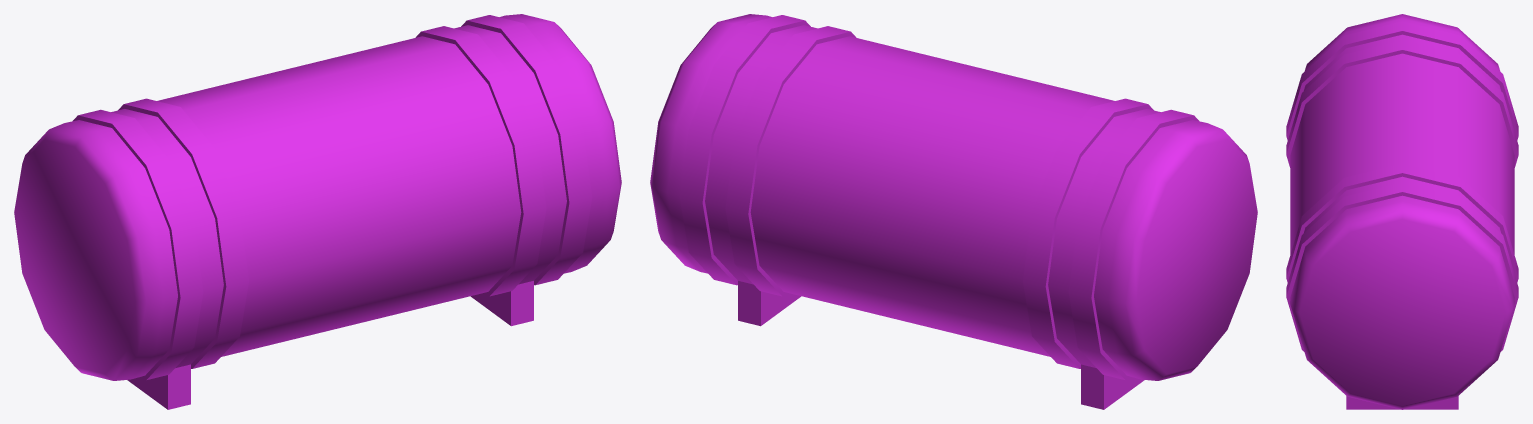
Rendered from Coper_Boiler_Big.fbx.
3 views of the same model, side by side, from view 1: azimuth 30°, elevation 25°; view 2: azimuth 150°, elevation 25°; view 3: azimuth 270°, elevation 25° (orthographic). The views are drawn at different scales.
Parts seen in each view (by area): view 1: Cylinder.006; view 2: Cylinder.006; view 3: Cylinder.006.
Boxes of the visible parts, x1=… form: Cylinder.006: x1=14, y1=14, x2=621, y2=409; Cylinder.006: x1=650, y1=14, x2=1257, y2=409; Cylinder.006: x1=1286, y1=14, x2=1518, y2=409.
Size of the model in its own units: 216 by 112 by 104.
